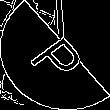P_NE: (21, 25, 89, 85)
